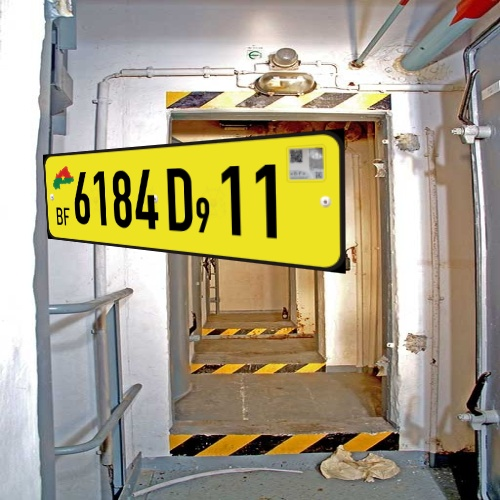plate: (33, 122, 353, 292)
